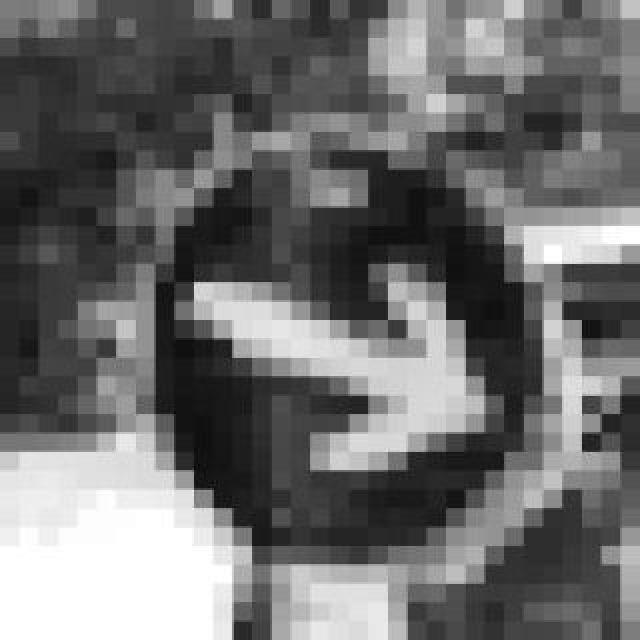keep right: (98, 94, 562, 566)
